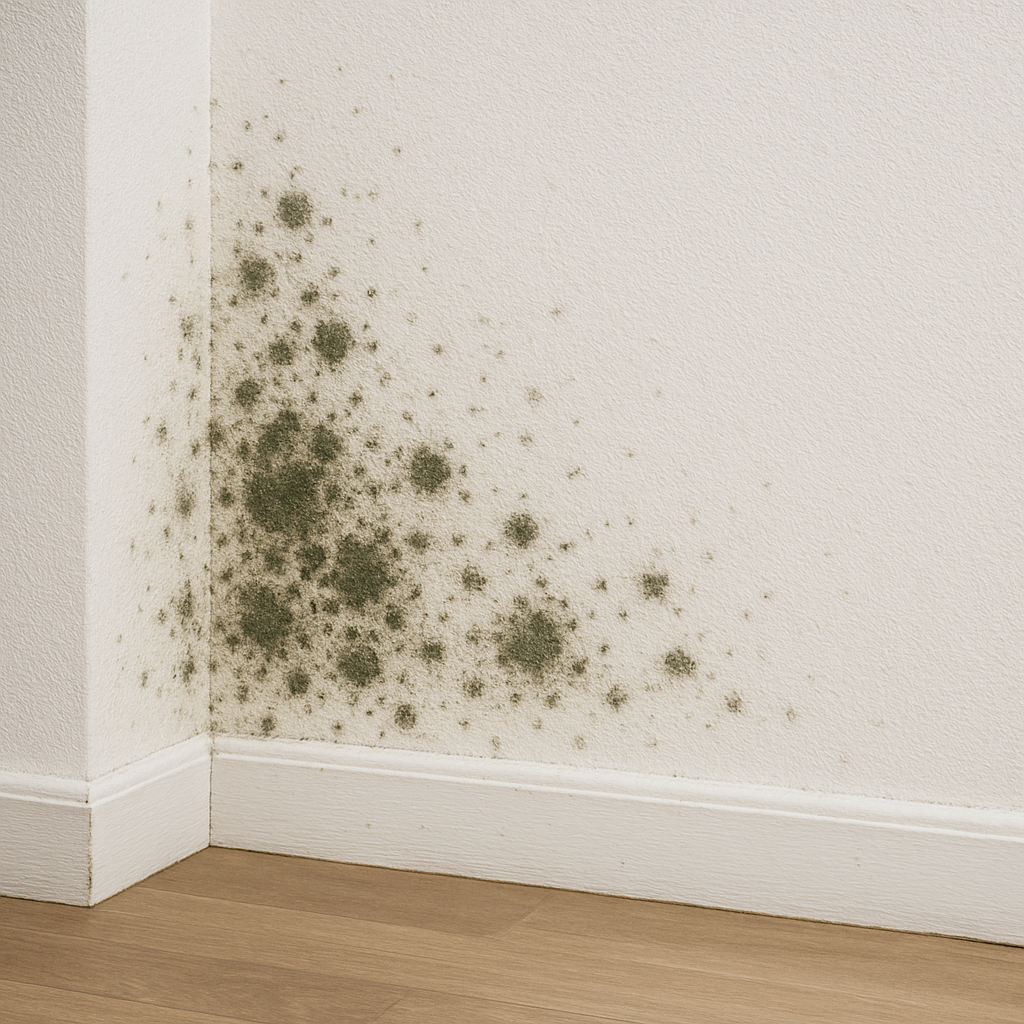schimmel: (234, 374, 367, 545), (483, 604, 629, 676), (238, 586, 314, 707), (320, 543, 422, 606), (322, 632, 405, 697)
